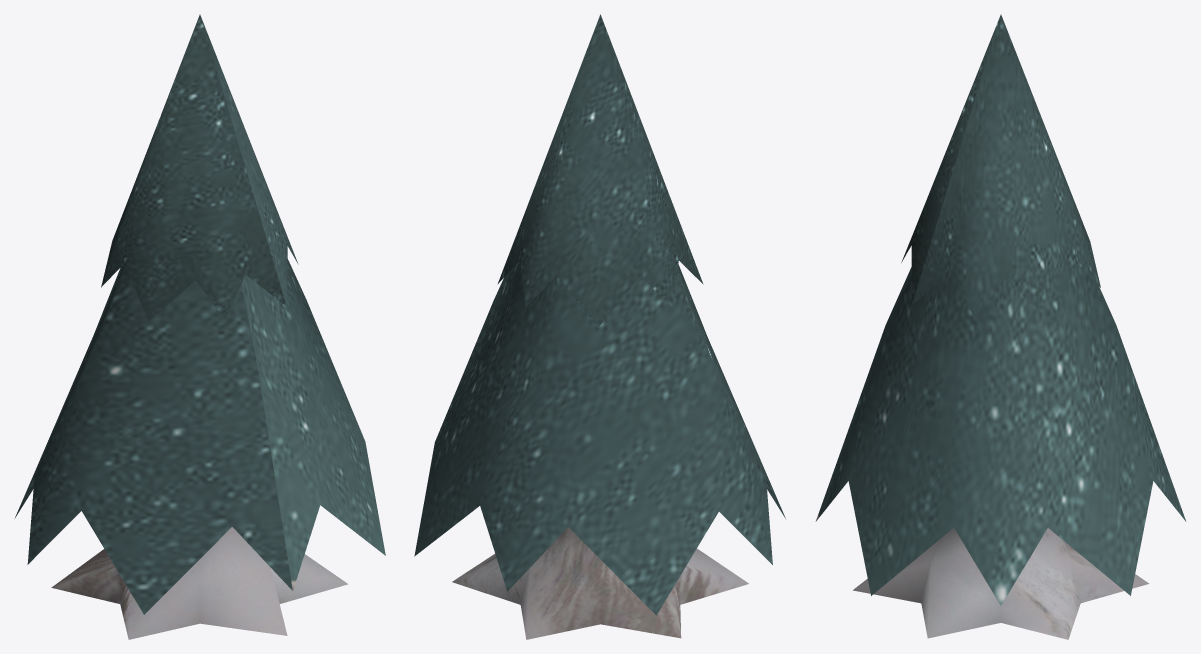
Rendered from Tree_short_03.fbx.
3 views of the same model, side by side, from view 1: azimuth 30°, elevation 25°; view 2: azimuth 150°, elevation 25°; view 3: azimuth 270°, elevation 25° (orthographic).
Parts seen in each view (by area): view 1: Tree_3; view 2: Tree_3; view 3: Tree_3.
Part boxes in pixels (x1,y1,x2,y2): Tree_3: (15, 14, 385, 639); Tree_3: (414, 14, 785, 639); Tree_3: (815, 14, 1186, 639).
Bounding box in the file's own units: 6 × 9.5 × 5.61.
